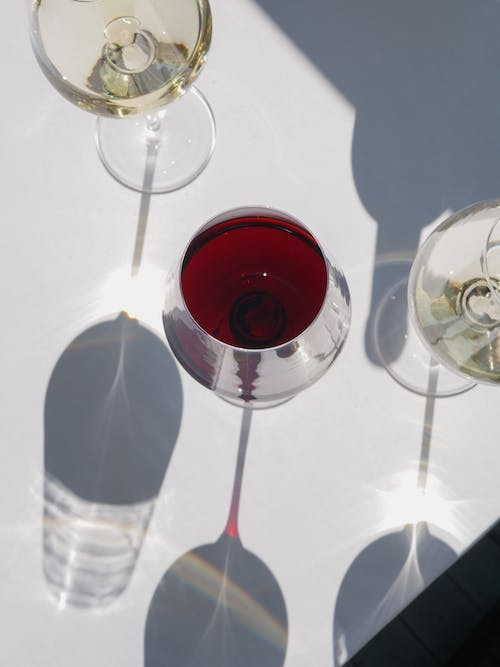alcohol: (158, 203, 353, 412), (26, 0, 218, 196), (370, 197, 500, 400)
